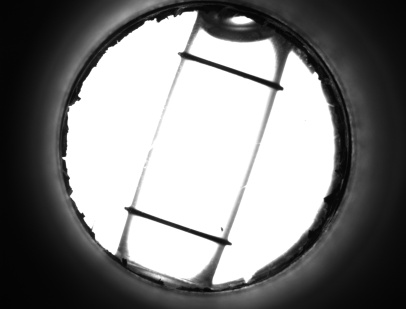line: (196, 54, 263, 88), (140, 208, 209, 241)
